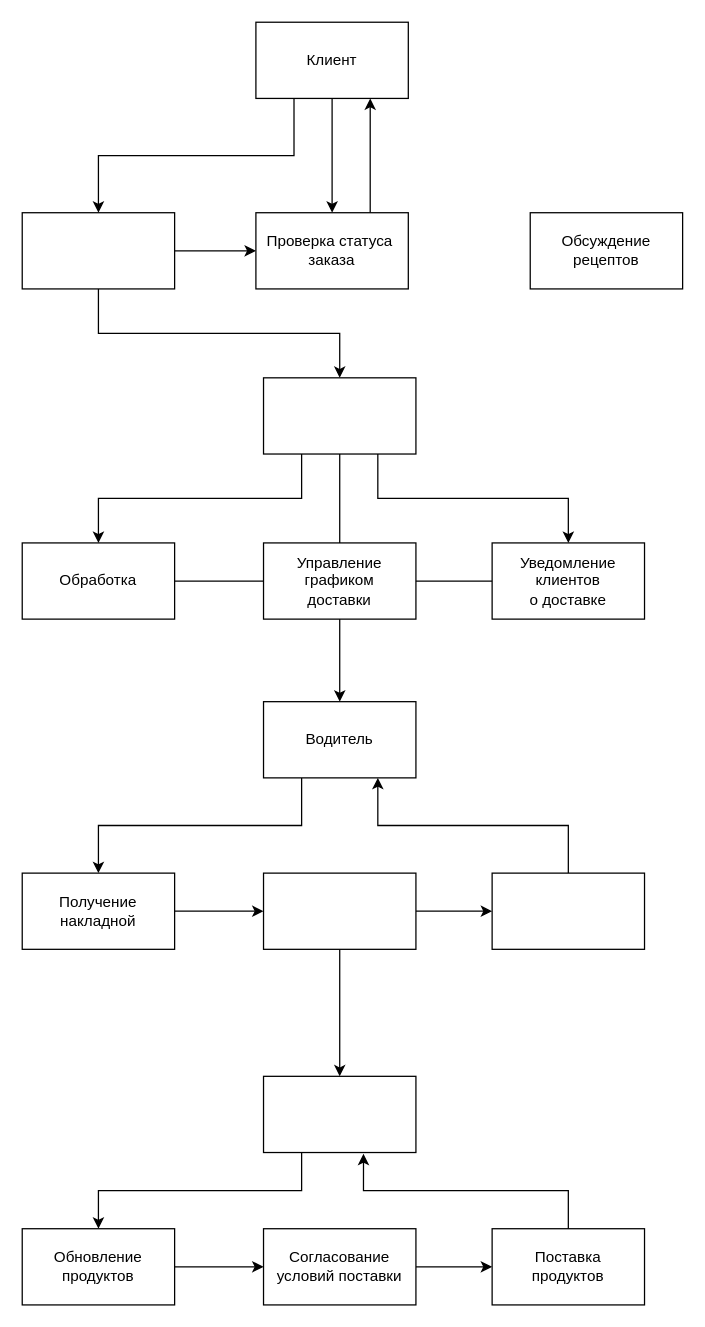
Image size: 705x1327. Some labels were removed from this diagram. The centre of each missing label's shape, as x and y in pixels:
"Доставка продуктов" belongs at point 339,910.
"Менеджер" belongs at point 339,415.
"Подтверждение доставки" belongs at point 568,910.
"Размещение заказа" belongs at point 98,250.
"Фермер" belongs at point 339,1114.
